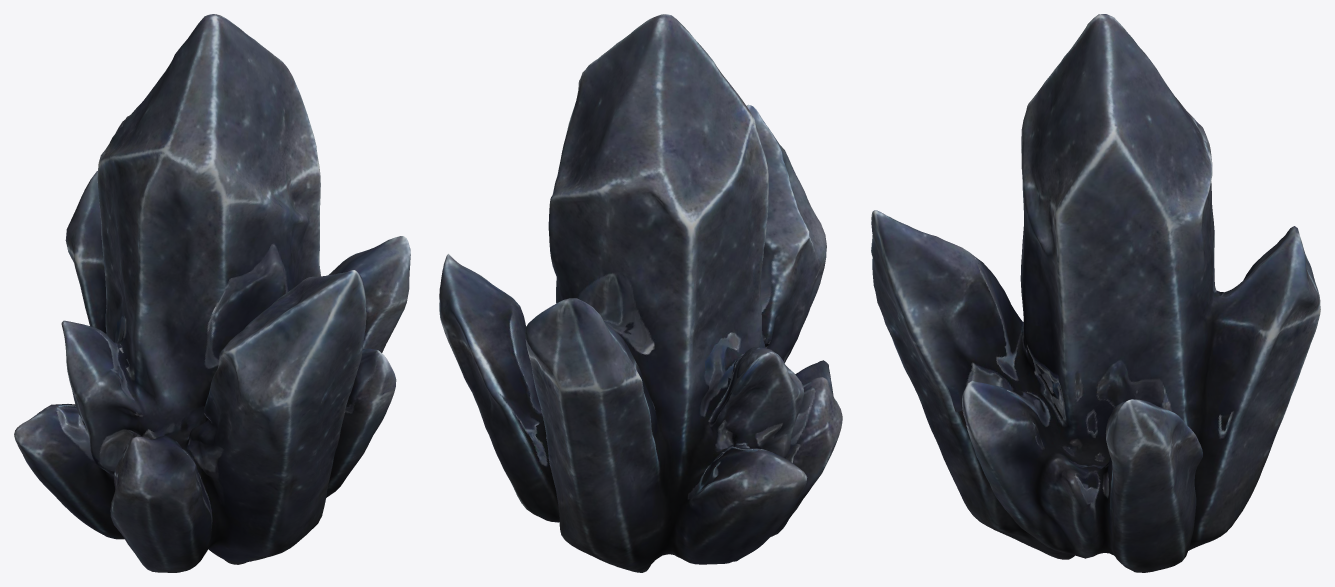
Rendered from 7b87dda02da0_grey_mystical_cryst.fbx.
3 views of the same model, side by side, from view 1: azimuth 30°, elevation 25°; view 2: azimuth 150°, elevation 25°; view 3: azimuth 270°, elevation 25° (orthographic).
Visible parts, largest first — view 1: mesh; view 2: mesh; view 3: mesh.
Boxes of the visible parts, x1,y1,x2,y2 form: mesh: [14, 14, 410, 572]; mesh: [439, 14, 842, 572]; mesh: [871, 14, 1320, 572].
Bounding box in the file's own units: 72.73 × 99.34 × 74.43.
